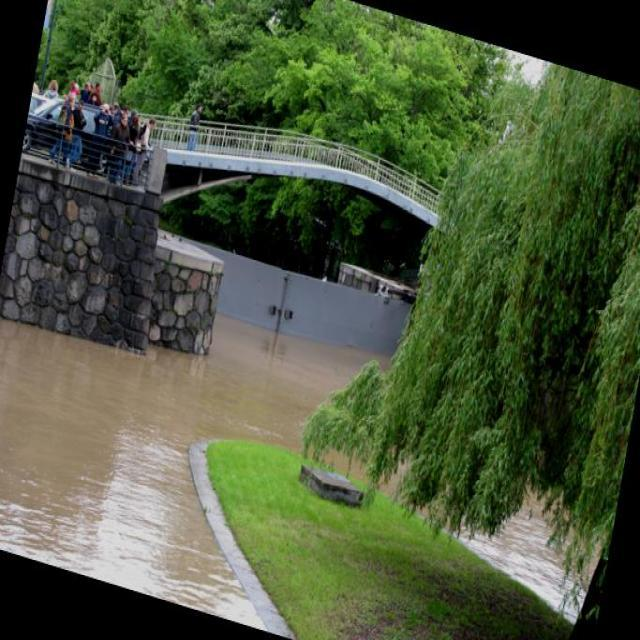flood: (0, 241, 386, 639)
